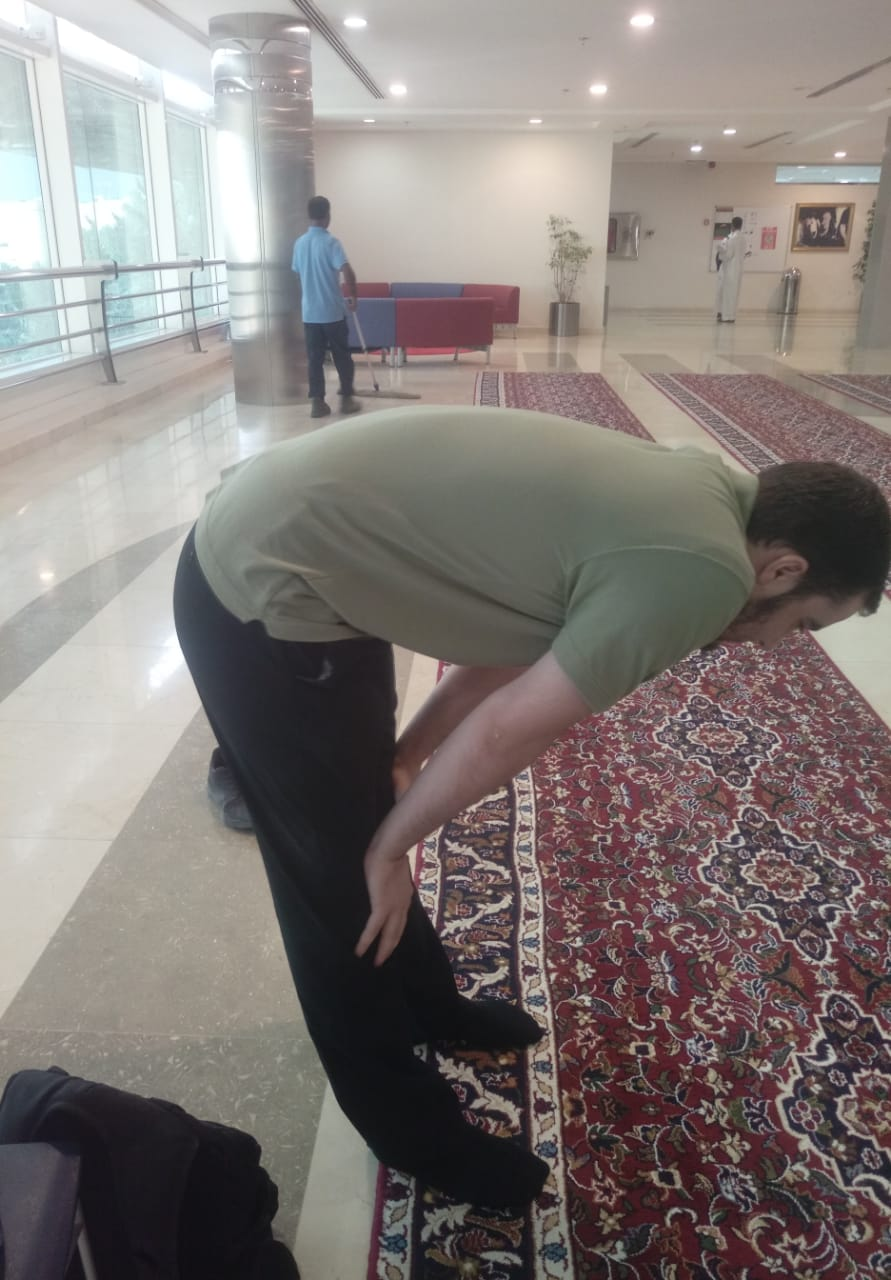ruku: (124, 346, 891, 1221)
